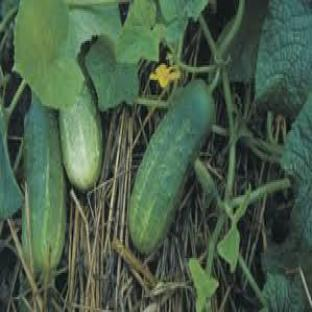Cucumber: (130, 80, 214, 252), (22, 95, 65, 272), (60, 84, 103, 191)
